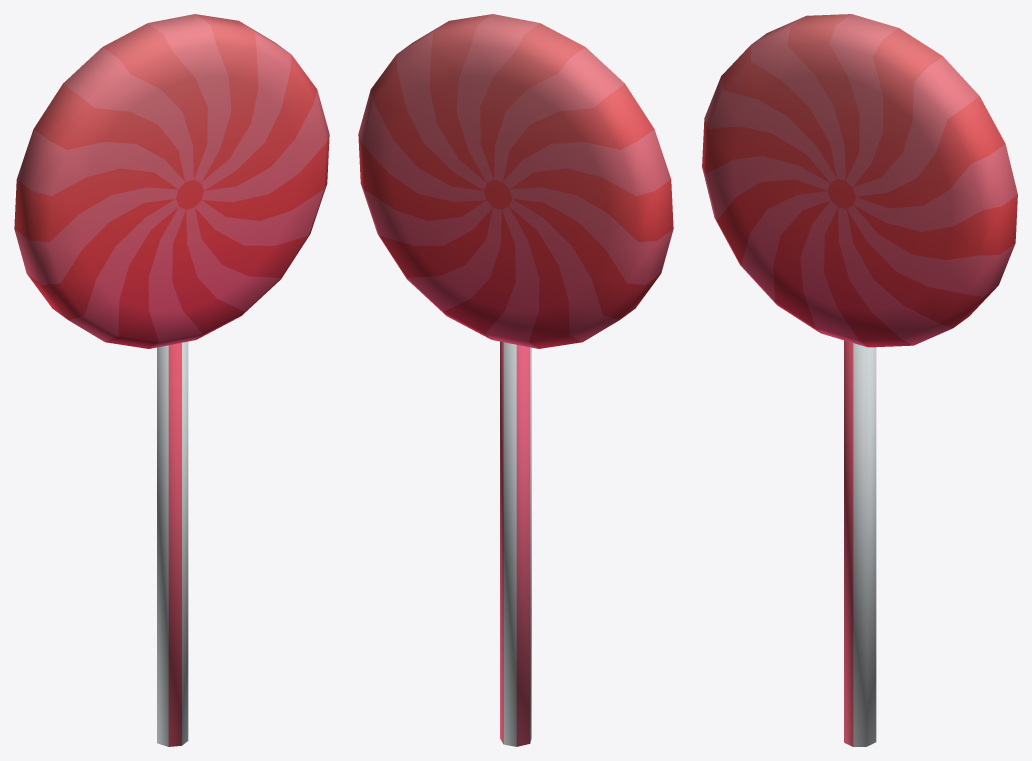
Rendered from lollipop_001.fbx.
3 views of the same model, side by side, from view 1: azimuth 30°, elevation 25°; view 2: azimuth 150°, elevation 25°; view 3: azimuth 330°, elevation 25° (orthographic).
Visible parts, largest first — view 1: lollipop_001; view 2: lollipop_001; view 3: lollipop_001.
Boxes of the visible parts, x1,y1,x2,y2 form: lollipop_001: [14, 14, 329, 746]; lollipop_001: [358, 14, 673, 746]; lollipop_001: [702, 14, 1017, 746].
Size of the model in its own units: 6.33 by 1.32 by 14.46.
